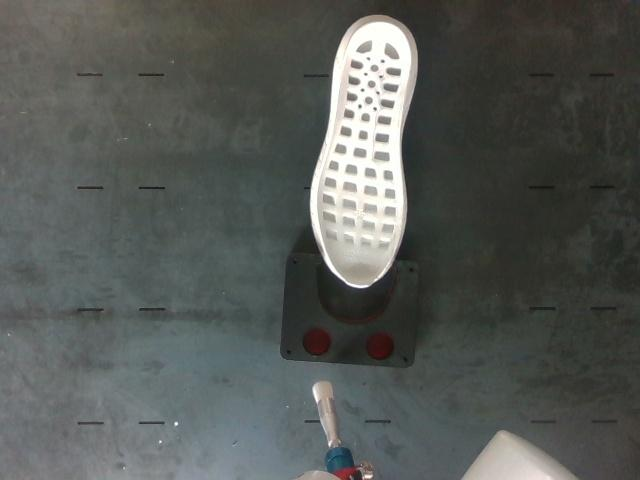shoes: (317, 22, 411, 287)
